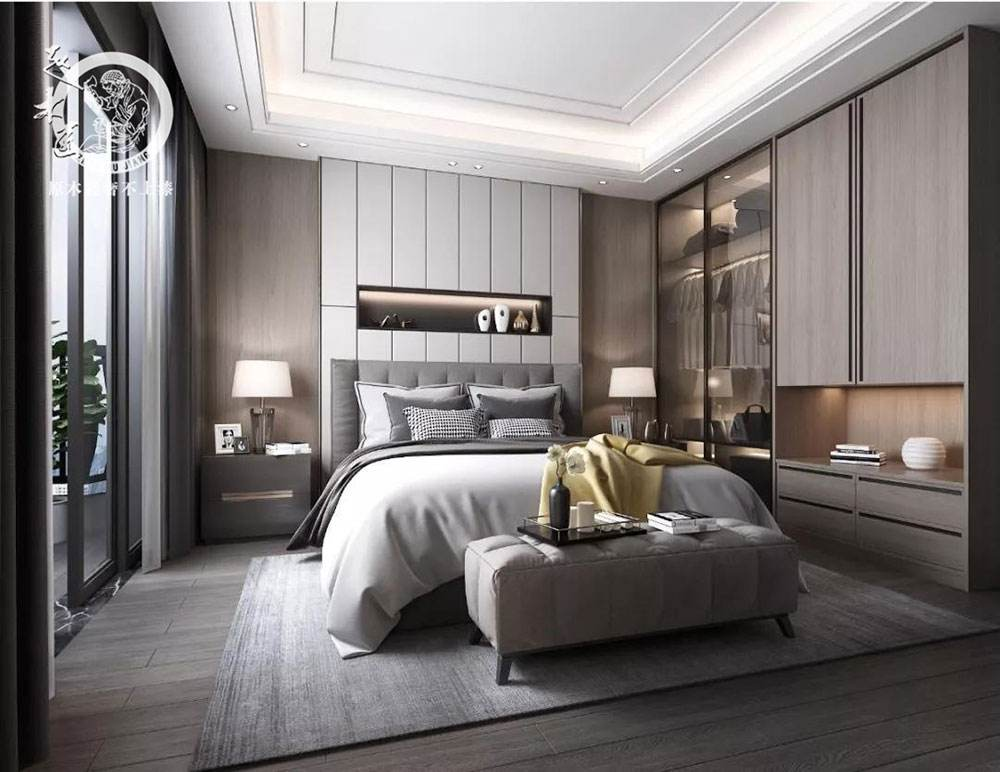床: (299, 416, 766, 649)
枕头: (358, 382, 571, 458)
灯: (227, 358, 292, 454), (606, 364, 662, 442), (222, 100, 242, 116), (598, 174, 616, 189), (443, 159, 461, 173), (673, 166, 692, 179), (296, 139, 314, 152), (474, 162, 484, 173)
